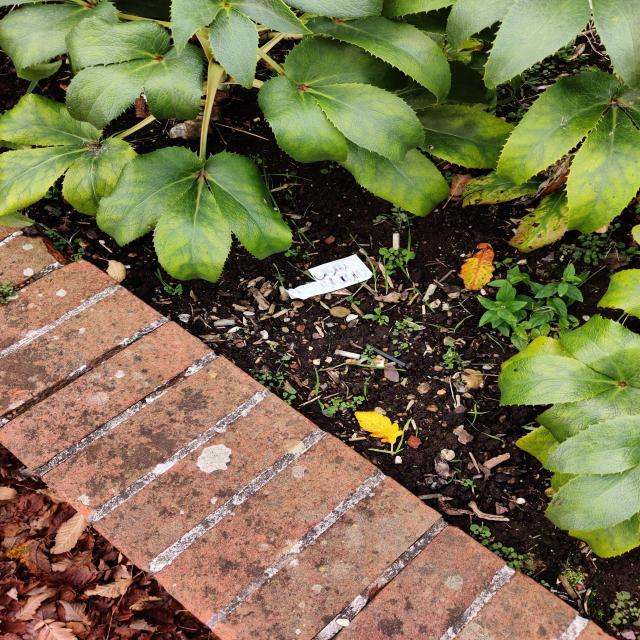litter: (283, 255, 376, 300), (365, 344, 406, 368), (335, 349, 361, 360), (422, 284, 437, 303), (370, 358, 387, 369), (213, 319, 236, 327), (392, 234, 400, 250)
